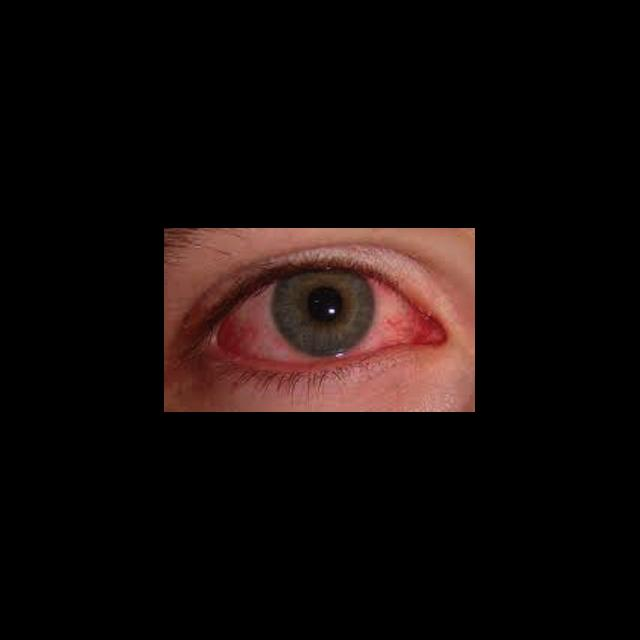eye: (220, 270, 415, 366)
iris: (273, 271, 376, 357)
